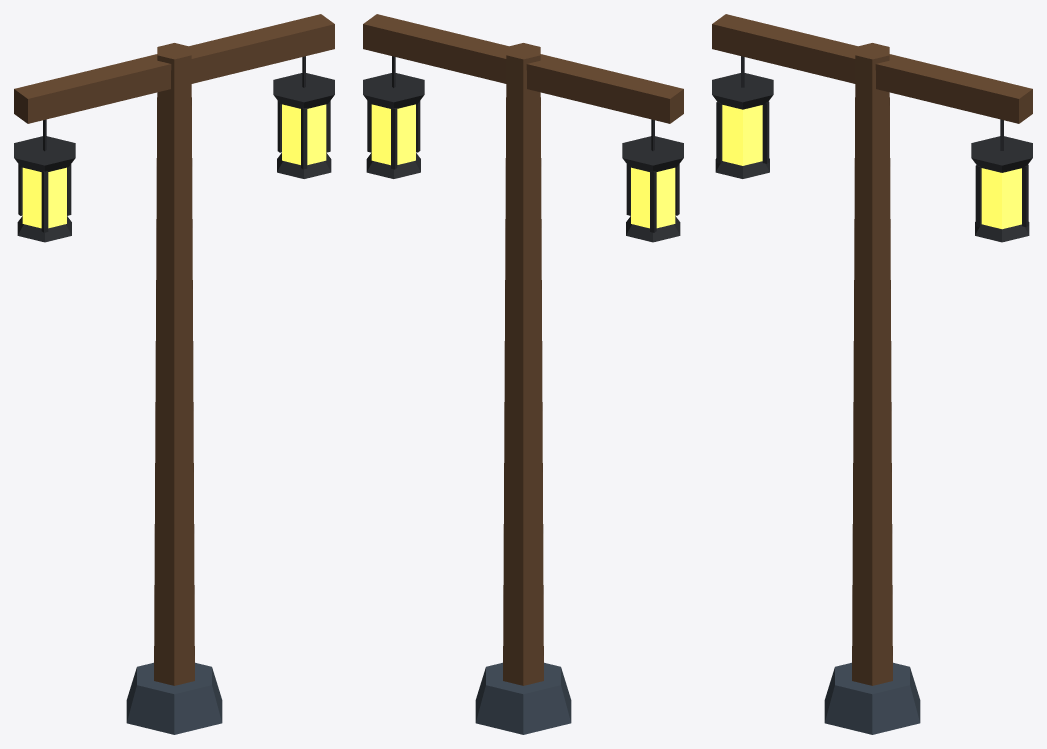
Rendered from lantern_double.glb.
3 renders of one model, left to right at view 1: azimuth 30°, elevation 25°; view 2: azimuth 150°, elevation 25°; view 3: azimuth 330°, elevation 25°, orthographic.
Visible parts, largest first — view 1: lantern_double, lantern_L, lantern_R; view 2: lantern_double, lantern_L, lantern_R; view 3: lantern_double, lantern_R, lantern_L.
Part boxes in pixels (x1,y1,x2,y2): lantern_double: (14,14,334,734); lantern_L: (14,119,75,242); lantern_R: (273,56,334,178); lantern_double: (363,14,683,734); lantern_L: (622,119,683,242); lantern_R: (363,56,424,178); lantern_double: (712,14,1032,734); lantern_R: (971,119,1032,242); lantern_L: (712,56,773,178).
Size of the model in its own units: 0.94 by 1.85 by 0.2425.
